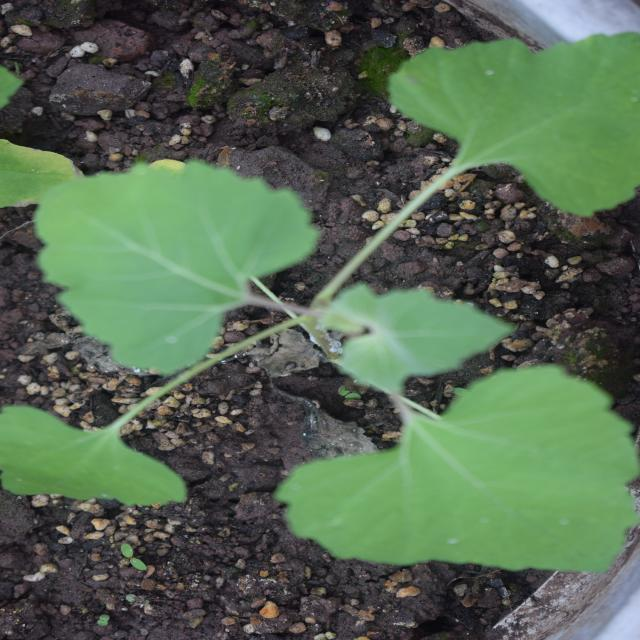cocklebur: (70, 24, 579, 592)
